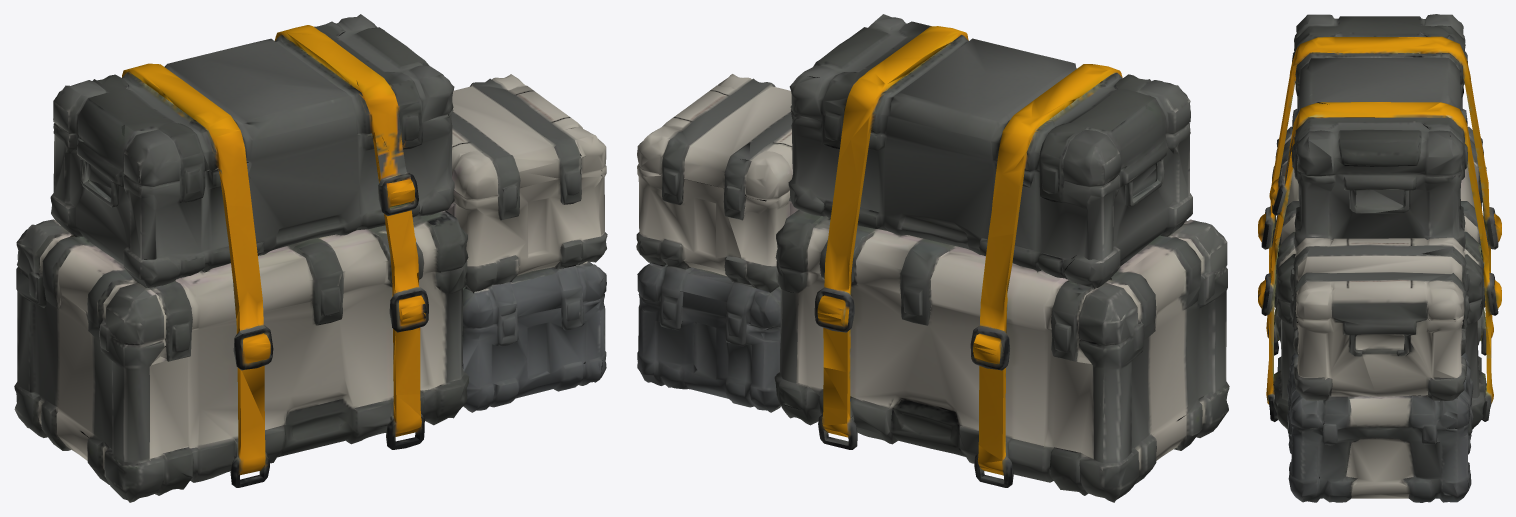
File: 07_crate_stack.fbx
The picture shows the model from 3 angles, left to right: view 1: azimuth 30°, elevation 25°; view 2: azimuth 150°, elevation 25°; view 3: azimuth 270°, elevation 25°; orthographic projection. The views are drawn at different scales.
Parts seen in each view (by area): view 1: 07_crate_stack; view 2: 07_crate_stack; view 3: 07_crate_stack.
Boxes of the visible parts, bbox=[...] form: 07_crate_stack: bbox=[14, 14, 607, 502]; 07_crate_stack: bbox=[636, 14, 1229, 502]; 07_crate_stack: bbox=[1258, 14, 1501, 502].
Bounding box in the file's own units: 2.8 × 1.89 × 1.37.
Materials: 1 (1 with a texture image).
